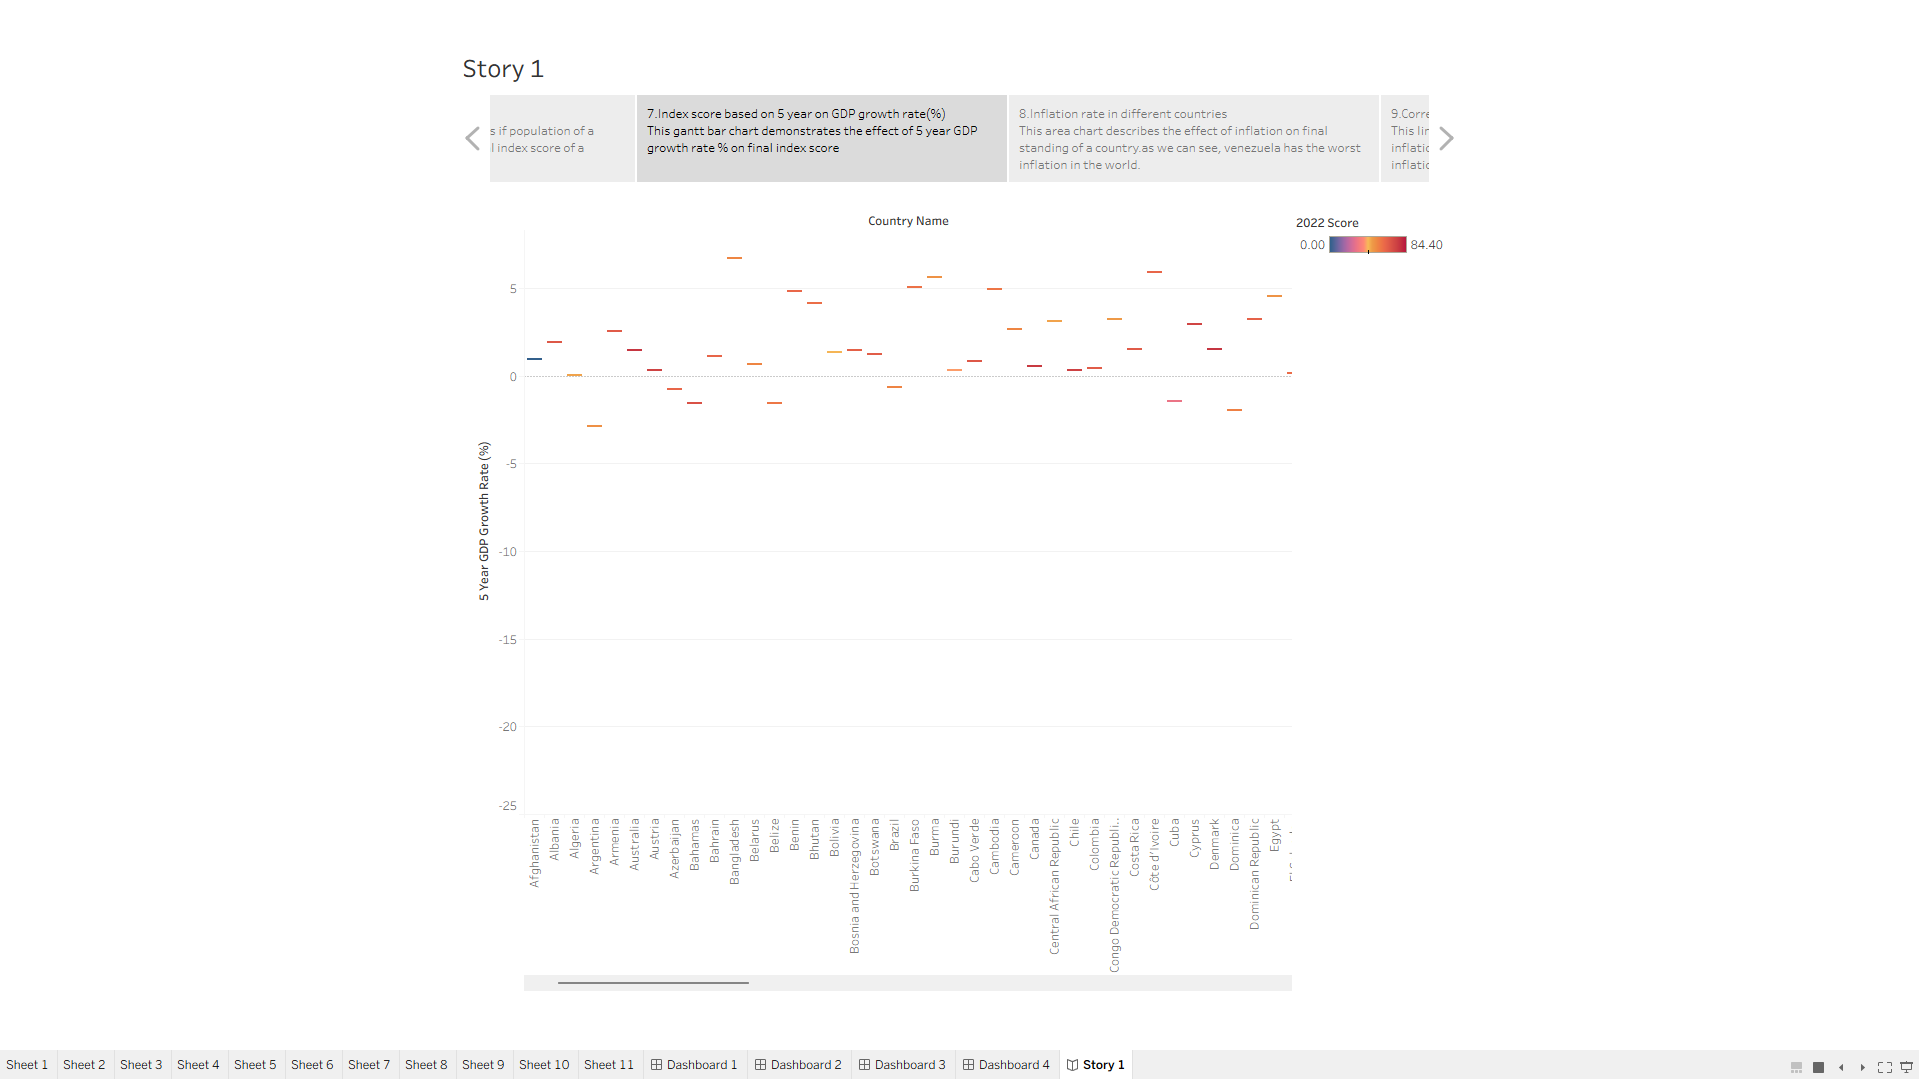

Layout of this report page (visuals, bound fields, positions):
{"tool":"tableau","page":{"name":"Dashboard 2","canvas":[1000,800],"ordinal":1},"visuals":[{"type":"dashboard-object","box":[910,23,79,52]},{"type":"worksheet","title":"Sheet 5","mark":"Automatic","box":[53,86,419,359]},{"type":"worksheet","title":"Sheet 6","mark":"Automatic","rows":["Country Name"],"cols":["Population (Millions)"],"box":[520,95,460,338]},{"type":"worksheet","title":"Sheet 7","mark":"GanttBar","rows":["5 Year GDP Growth Rate (%)"],"cols":["Country Name"],"box":[61,461,924,311]}]}

Visuals, with their boxes on the page's 1000x800 design canvas (x1, y1, x2, y2). These are canvas units, not pixel positions in the 1919x1079 screenshot, which may show the page scaled, cropped or inside an application window:
dashboard-object: crop(910, 23, 989, 75)
"Sheet 5" worksheet: crop(53, 86, 472, 445)
"Sheet 6" worksheet: crop(520, 95, 980, 433)
"Sheet 7" worksheet (GanttBar marks): crop(61, 461, 985, 772)
